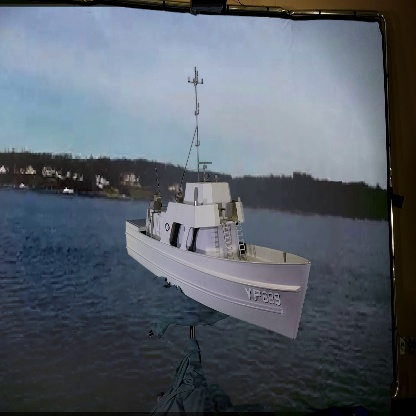YP689: (125, 65, 312, 341)
